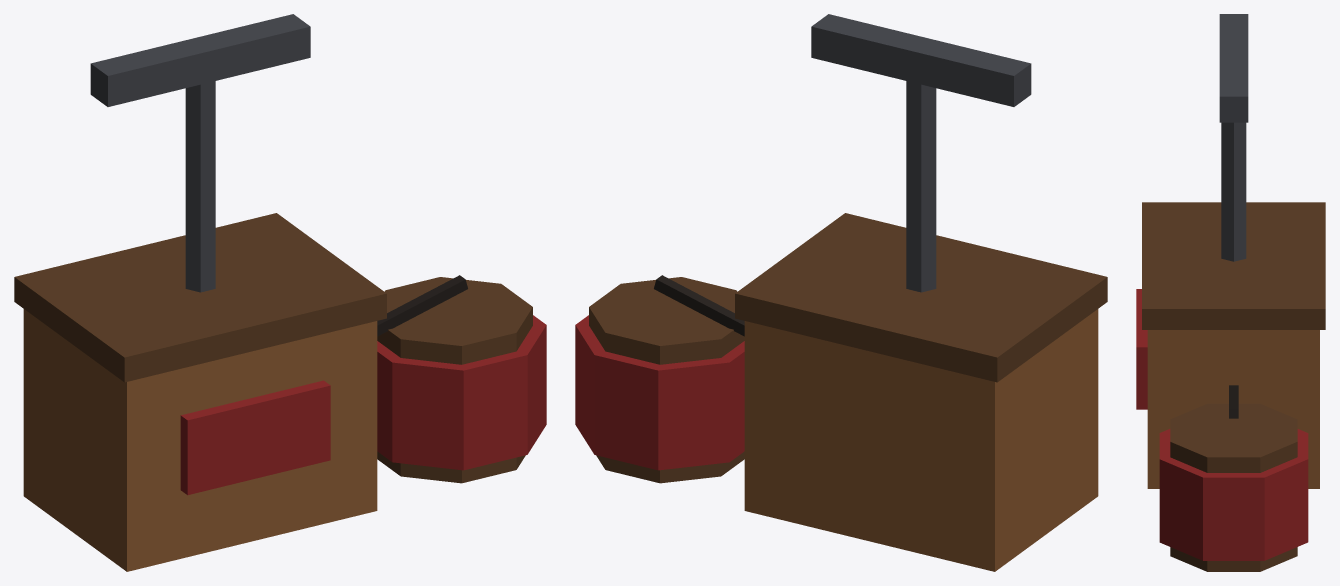
The model's file is mine_detonator.glb.
3 views of the same model, side by side, from view 1: azimuth 30°, elevation 25°; view 2: azimuth 150°, elevation 25°; view 3: azimuth 270°, elevation 25° (orthographic). The views are drawn at different scales.
Parts seen in each view (by area): view 1: mine_detonator; view 2: mine_detonator; view 3: mine_detonator.
Part boxes in pixels (x1,y1,x2,y2): mine_detonator: (14, 14, 546, 571); mine_detonator: (575, 14, 1107, 571); mine_detonator: (1136, 14, 1325, 571).
Bounding box in the file's own units: 0.7693 × 0.745 × 0.33.
